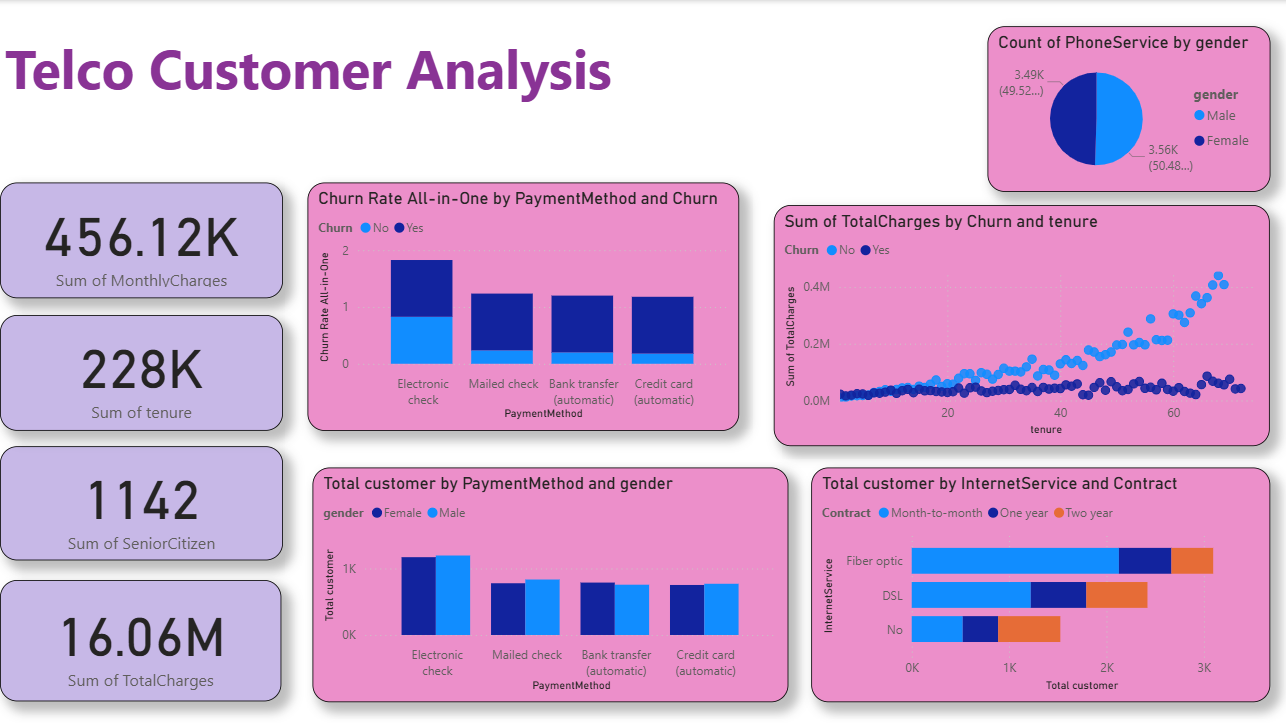

Layout of this report page (visuals, bound fields, positions):
{"tool":"powerbi","page":{"name":"Page 1","canvas":[1280,720],"ordinal":0},"visuals":[{"type":"card","fields":{"Values":["Sum(Telco_Customer_Churn_Dataset  (2).MonthlyCharges)"]},"box":[0,181.1,281.3,115.3],"z":0},{"type":"card","fields":{"Values":["Sum(Telco_Customer_Churn_Dataset  (2).SeniorCitizen)"]},"box":[0,444.6,281.3,113.9],"z":1},{"type":"card","fields":{"Values":["Sum(Telco_Customer_Churn_Dataset  (2).TotalCharges)"]},"box":[0,577.7,279.9,120.8],"z":2},{"type":"card","fields":{"Values":["Sum(Telco_Customer_Churn_Dataset  (2).tenure)"]},"box":[0,312.9,281.3,115.3],"z":3},{"type":"pieChart","fields":{"Category":["Telco_Customer_Churn_Dataset  (2).gender"],"Y":["CountNonNull(Telco_Customer_Churn_Dataset  (2).PhoneService)"]},"box":[982.5,26.1,281.3,164.7],"z":4},{"type":"columnChart","fields":{"Y":["Telco_Customer_Churn_Dataset  (2).Churn Rate All-in-One"],"Series":["Telco_Customer_Churn_Dataset  (2).Churn"],"Category":["Telco_Customer_Churn_Dataset  (2).PaymentMethod"]},"box":[306,181.1,429.5,247],"z":5},{"type":"textbox","box":[0,26.1,639.5,86.4],"z":6},{"type":"scatterChart","fields":{"Y":["Sum(Telco_Customer_Churn_Dataset  (2).TotalCharges)"],"X":["Telco_Customer_Churn_Dataset  (2).tenure"],"Series":["Telco_Customer_Churn_Dataset  (2).Churn"]},"box":[769.8,204.5,494,240.1],"z":7},{"type":"barChart","fields":{"Y":["Telco_Customer_Churn_Dataset  (2).Total customer"],"Category":["Telco_Customer_Churn_Dataset  (2).InternetService"],"Series":["Telco_Customer_Churn_Dataset  (2).Contract"]},"box":[806.9,465.2,456.9,233.3],"z":8},{"type":"lineClusteredColumnComboChart","fields":{"Series":["Telco_Customer_Churn_Dataset  (2).gender"],"Y":["Telco_Customer_Churn_Dataset  (2).Total customer"],"Category":["Telco_Customer_Churn_Dataset  (2).PaymentMethod"]},"box":[311.5,465.2,473.4,233.3],"z":9}]}

Visuals, with their boxes in screenshot pixels (x1, y1, x2, y2), scaled from the page's 1280x720 canvas onto the 1286x723 screenshot:
card - Sum(Telco_Customer_Churn_Dataset  (2).MonthlyCharges): 0/182/283/298
card - Sum(Telco_Customer_Churn_Dataset  (2).SeniorCitizen): 0/446/283/561
card - Sum(Telco_Customer_Churn_Dataset  (2).TotalCharges): 0/580/281/701
card - Sum(Telco_Customer_Churn_Dataset  (2).tenure): 0/314/283/430
pieChart - Telco_Customer_Churn_Dataset  (2).gender x CountNonNull(Telco_Customer_Churn_Dataset  (2).PhoneService): 987/26/1270/192
columnChart - Telco_Customer_Churn_Dataset  (2).Churn Rate All-in-One x Telco_Customer_Churn_Dataset  (2).Churn: 307/182/739/430
textbox: 0/26/642/113
scatterChart - Sum(Telco_Customer_Churn_Dataset  (2).TotalCharges) x Telco_Customer_Churn_Dataset  (2).tenure: 773/205/1270/446
barChart - Telco_Customer_Churn_Dataset  (2).Total customer x Telco_Customer_Churn_Dataset  (2).InternetService: 811/467/1270/701
lineClusteredColumnComboChart - Telco_Customer_Churn_Dataset  (2).gender x Telco_Customer_Churn_Dataset  (2).Total customer: 313/467/789/701
